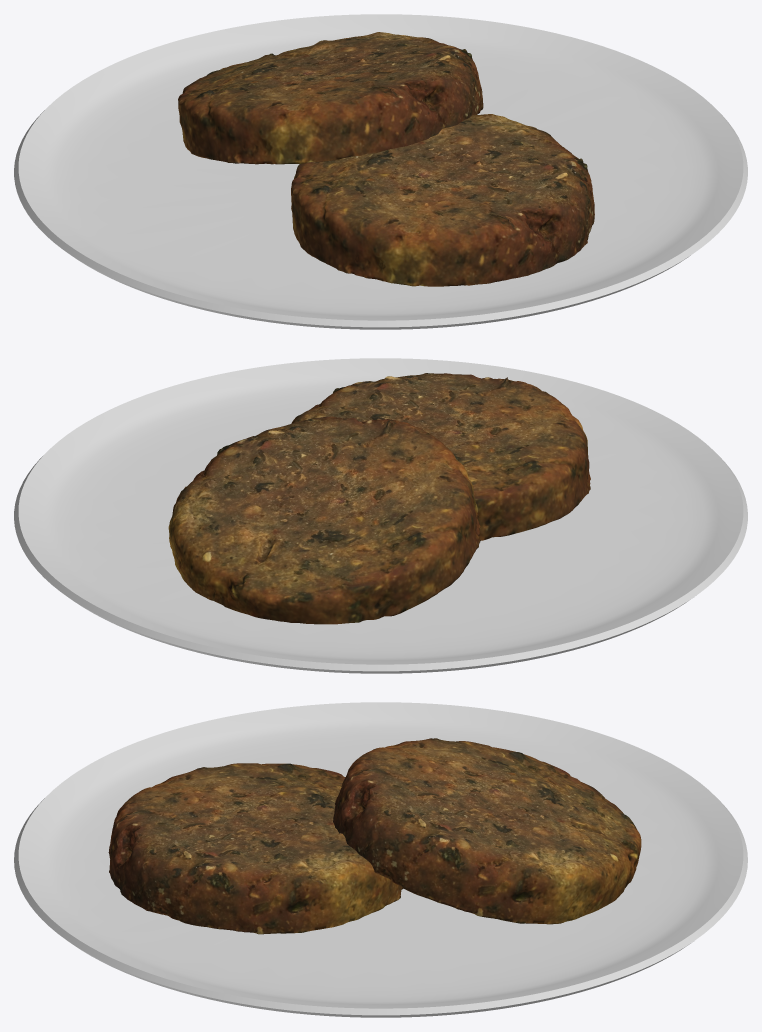
File: Falafel con Culantro.fbx
The picture shows the model from 3 angles, top to bottom: view 1: azimuth 30°, elevation 25°; view 2: azimuth 150°, elevation 25°; view 3: azimuth 270°, elevation 25°; orthographic projection.
Visible parts, largest first — view 1: Plate.001, 3DModel_Retopo, 3DModel_Retopo.001; view 2: Plate.001, 3DModel_Retopo.001, 3DModel_Retopo; view 3: Plate.001, 3DModel_Retopo.001, 3DModel_Retopo.
Part boxes in pixels (x1,y1,x2,y2): Plate.001: (14,14,747,329); 3DModel_Retopo: (291,114,594,286); 3DModel_Retopo.001: (178,32,483,164); Plate.001: (14,358,747,673); 3DModel_Retopo.001: (168,416,480,624); 3DModel_Retopo: (291,373,590,540); Plate.001: (14,702,747,1017); 3DModel_Retopo.001: (333,738,641,924); 3DModel_Retopo: (108,763,403,934).
Size of the model in its own units: 143 by 24.14 by 143.
Materials: 2 (1 with a texture image).
